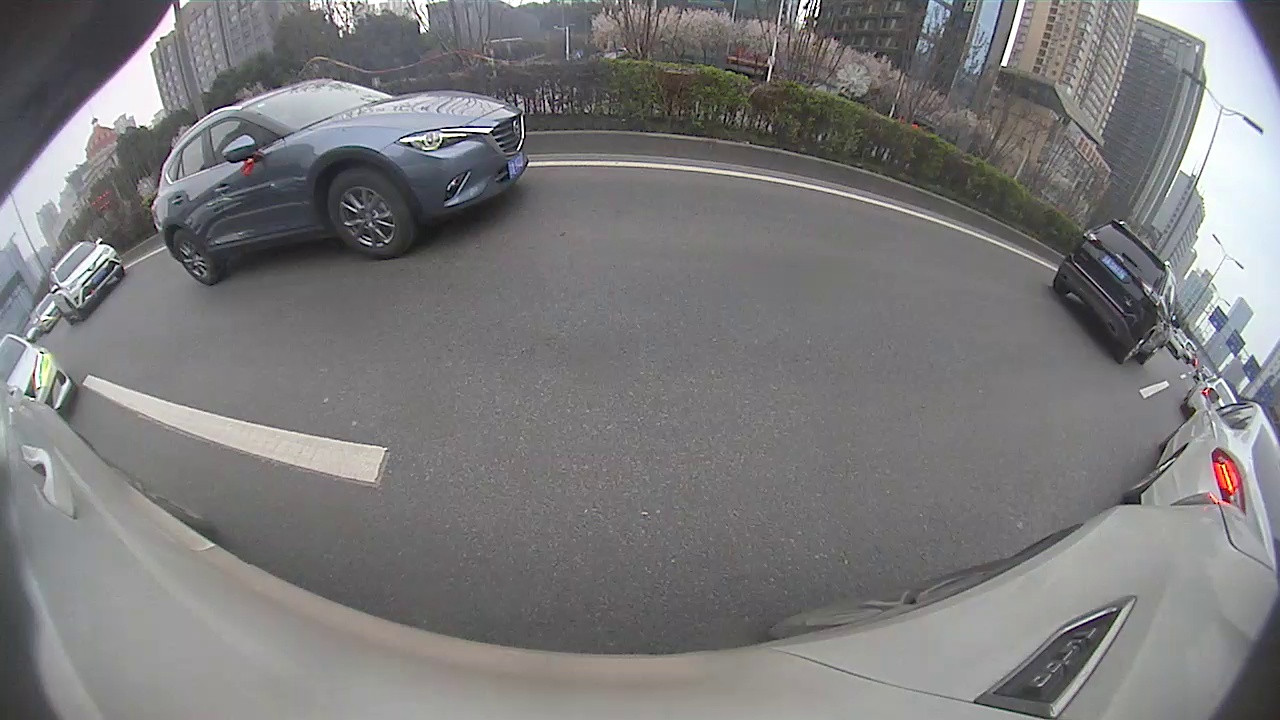car: (149, 76, 531, 286), (1121, 388, 1279, 578), (1051, 217, 1181, 366), (45, 235, 124, 325)
front: (325, 175, 413, 258)
rear: (170, 235, 217, 282)
